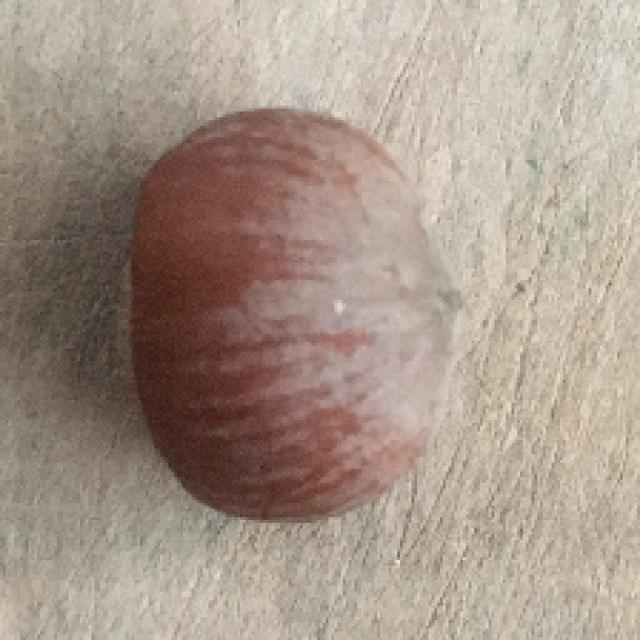QualityHazelnut: (119, 103, 470, 531)
